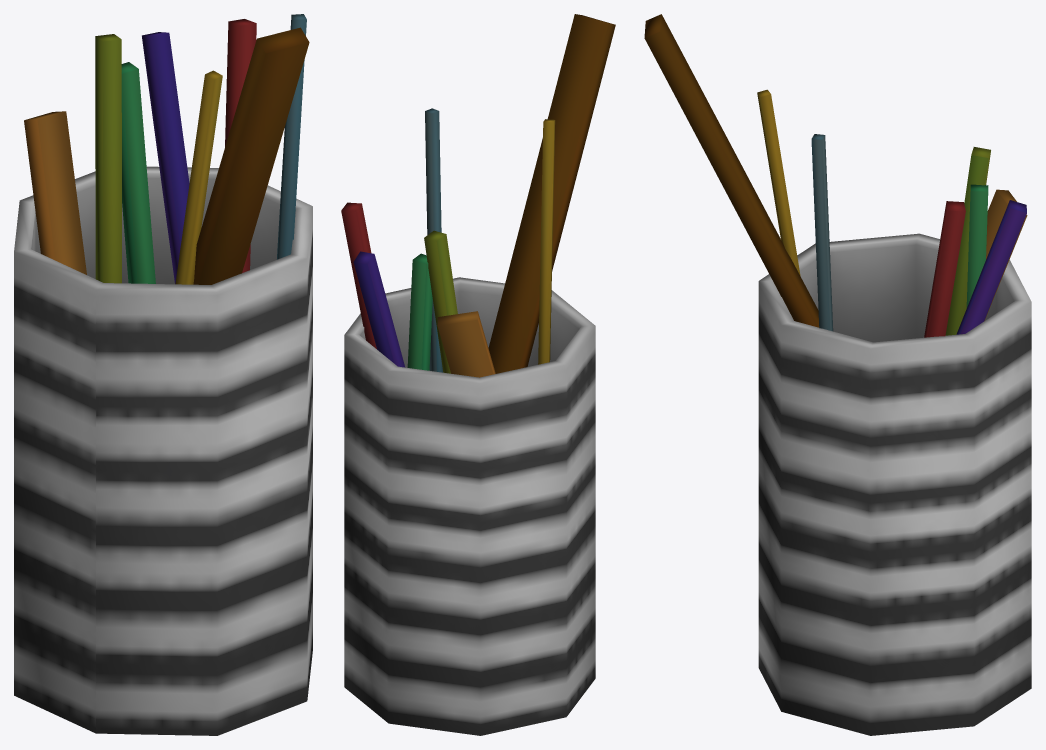
Rendered from PenCan1.fbx.
The picture shows the model from 3 angles, left to right: view 1: azimuth 30°, elevation 25°; view 2: azimuth 150°, elevation 25°; view 3: azimuth 270°, elevation 25°; orthographic projection. The views are drawn at different scales.
Parts seen in each view (by area): view 1: PenCan1; view 2: PenCan1; view 3: PenCan1.
Part boxes in pixels (x1=…): PenCan1: x1=14, y1=14, x2=312, y2=735; PenCan1: x1=341, y1=14, x2=615, y2=735; PenCan1: x1=644, y1=14, x2=1031, y2=735.
Size of the model in its own units: 0.0725 by 0.1929 by 0.1028.
Materials: 1 (1 with a texture image).
